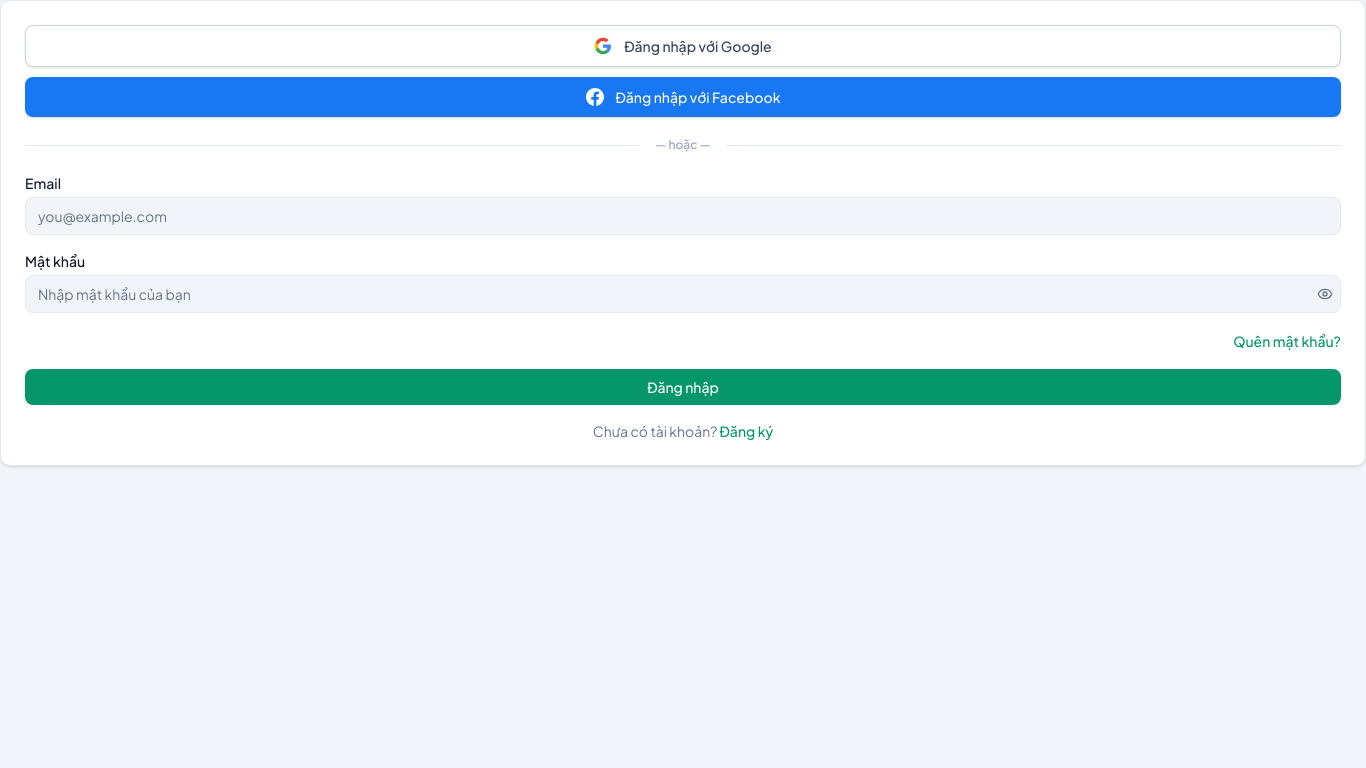
Test: LoginForm › displays error on failed login
Step 1. Type "test@example.com" into the field labelled "Email" → (683, 216), box left=25, top=197, right=1341, bottom=235
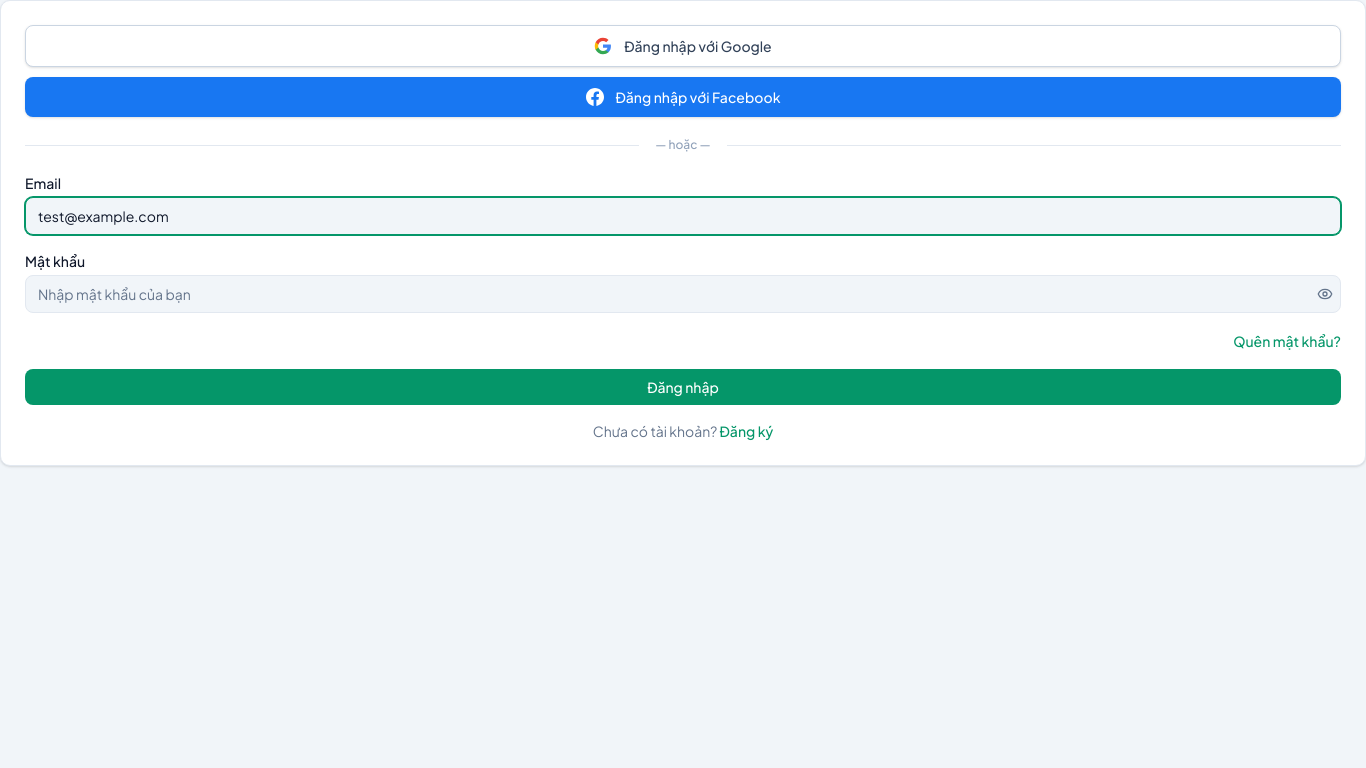
Step 2. Type "wrongpassword" into the password field with placeholder "Nhập mật khẩu của bạn" → (683, 294), box left=25, top=275, right=1341, bottom=313
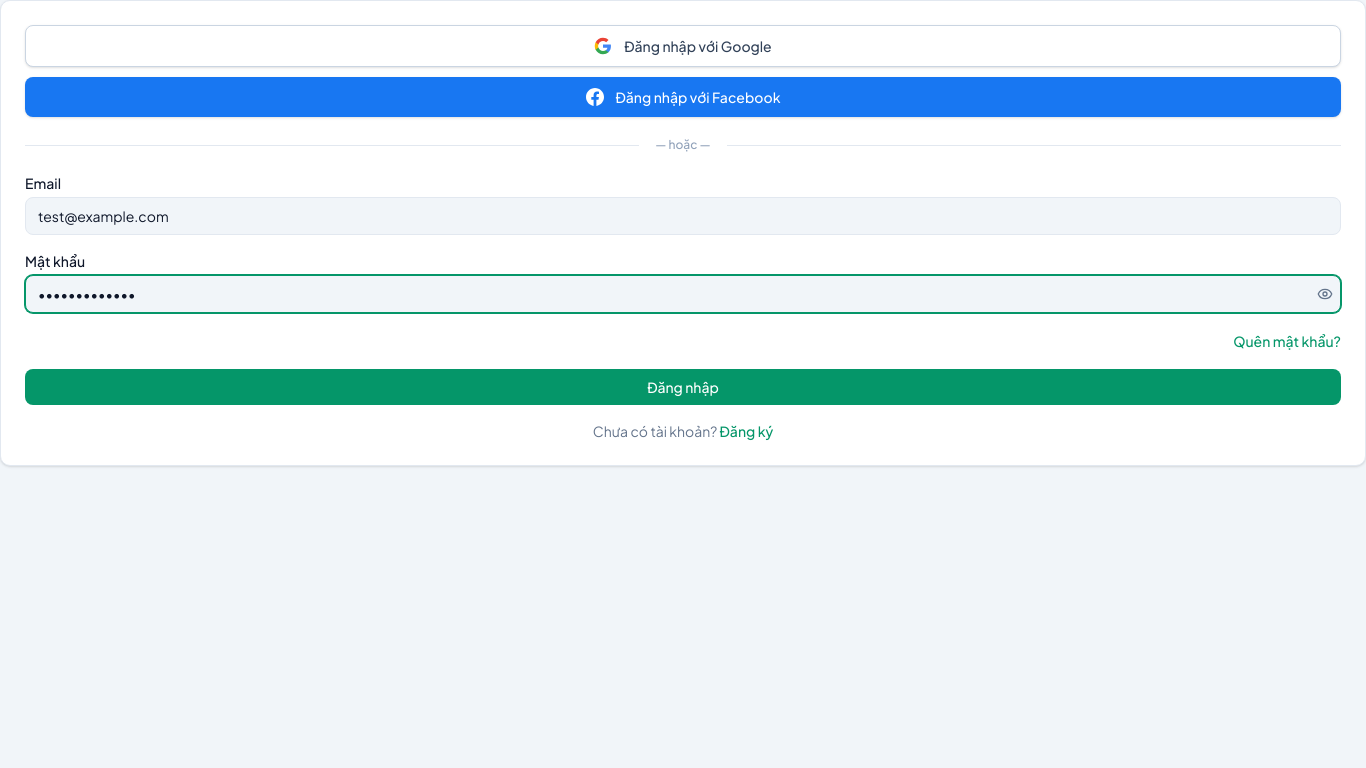
Step 3. Click the button "Đăng nhập" → (683, 387), box left=25, top=369, right=1341, bottom=405
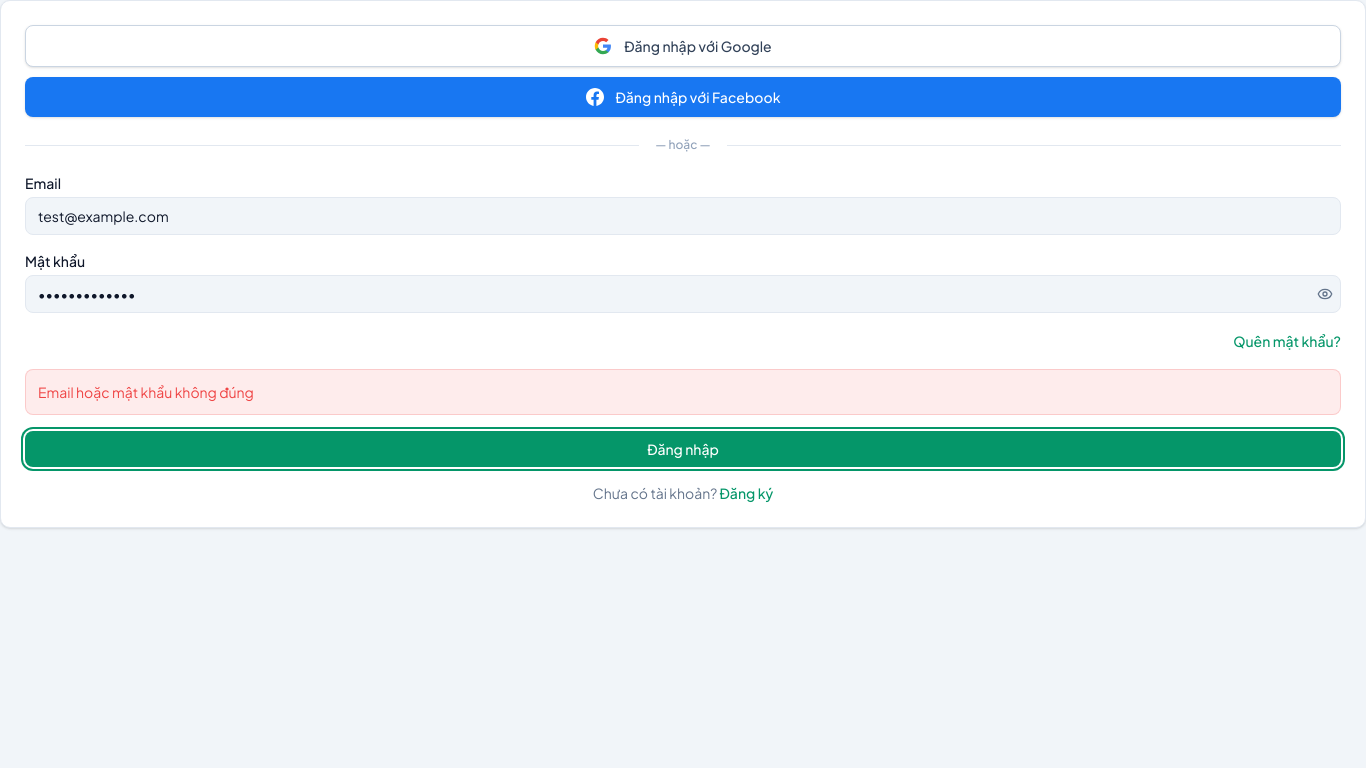
Check: the text "Email hoặc mật khẩu không đúng" is shown, box left=25, top=369, right=1341, bottom=415
